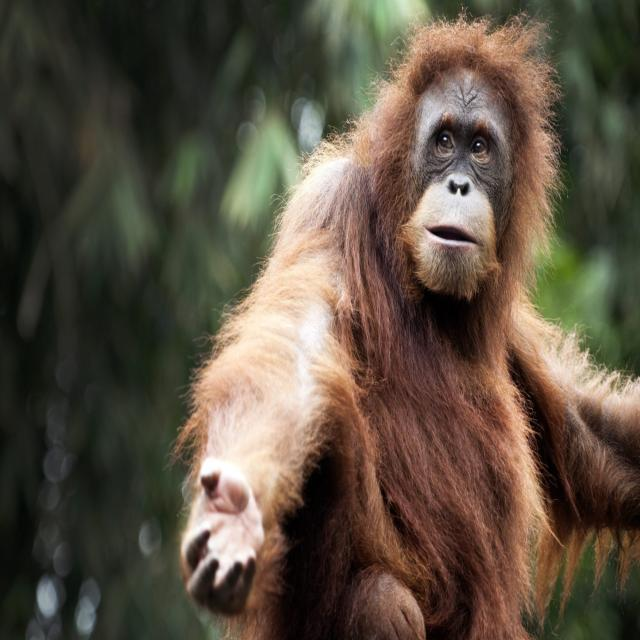Orangutan: (191, 37, 607, 640)
